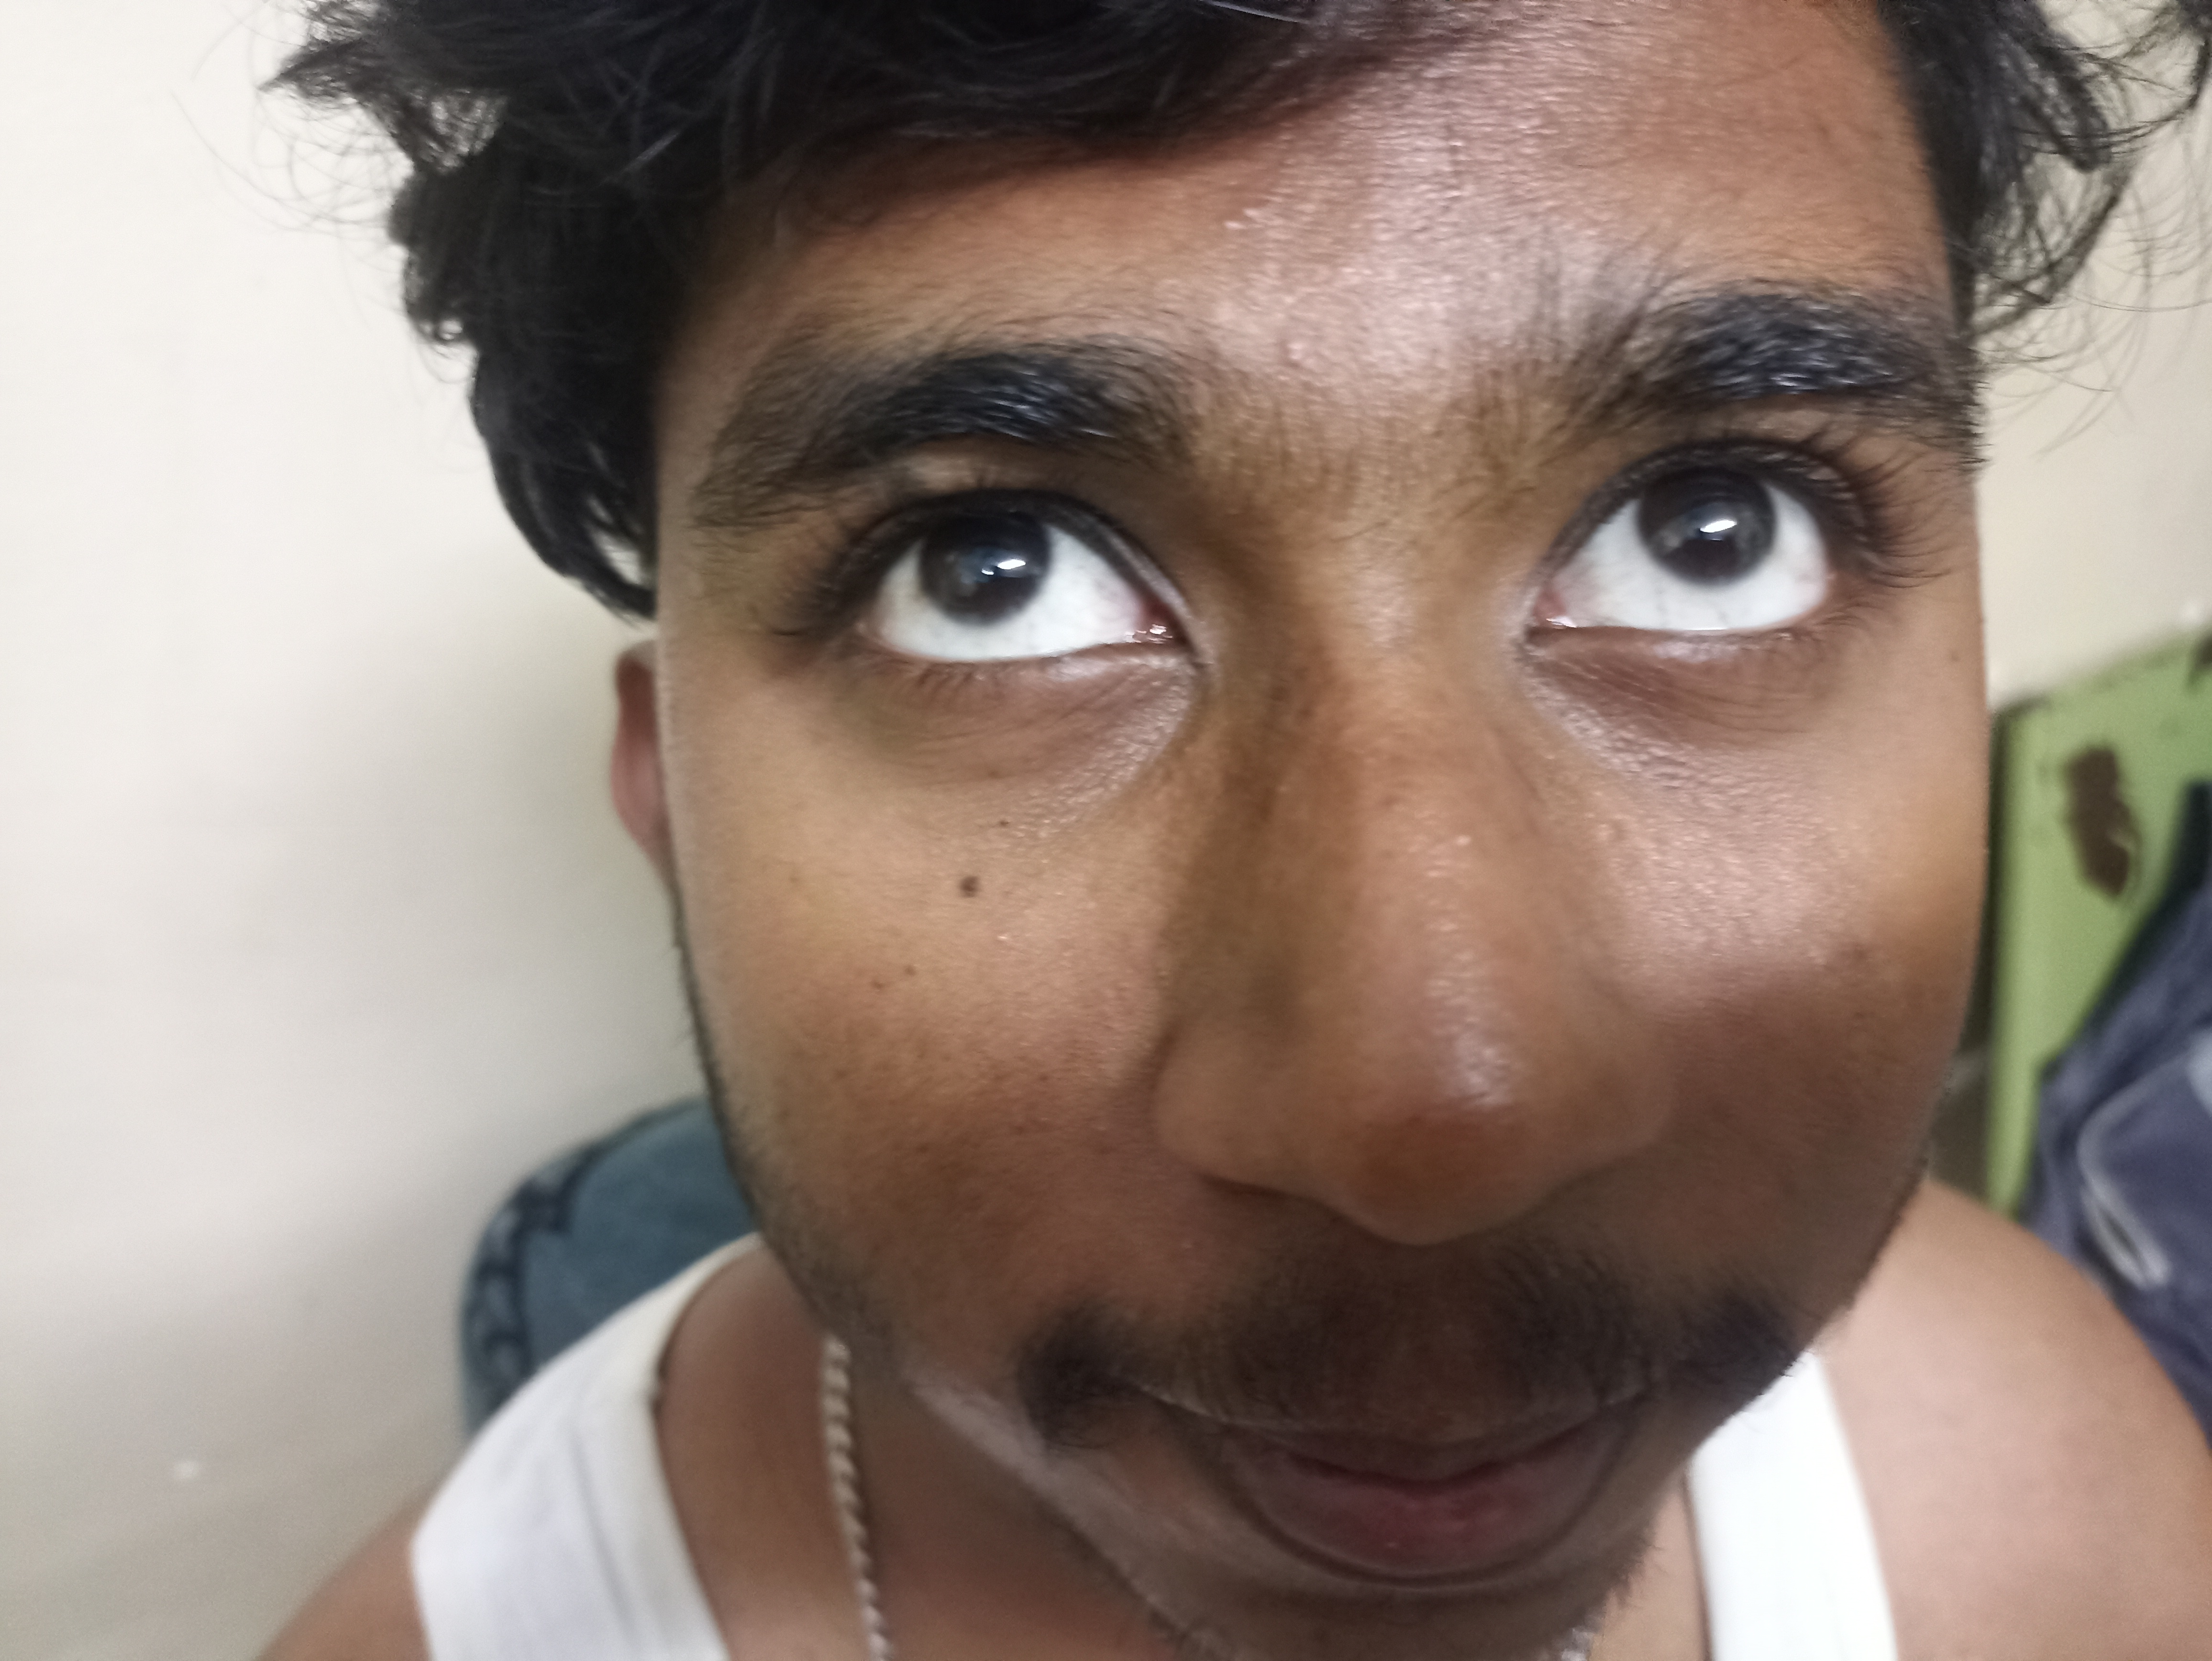EYE UP: (628, 256, 1300, 822), (1401, 251, 1970, 824)
